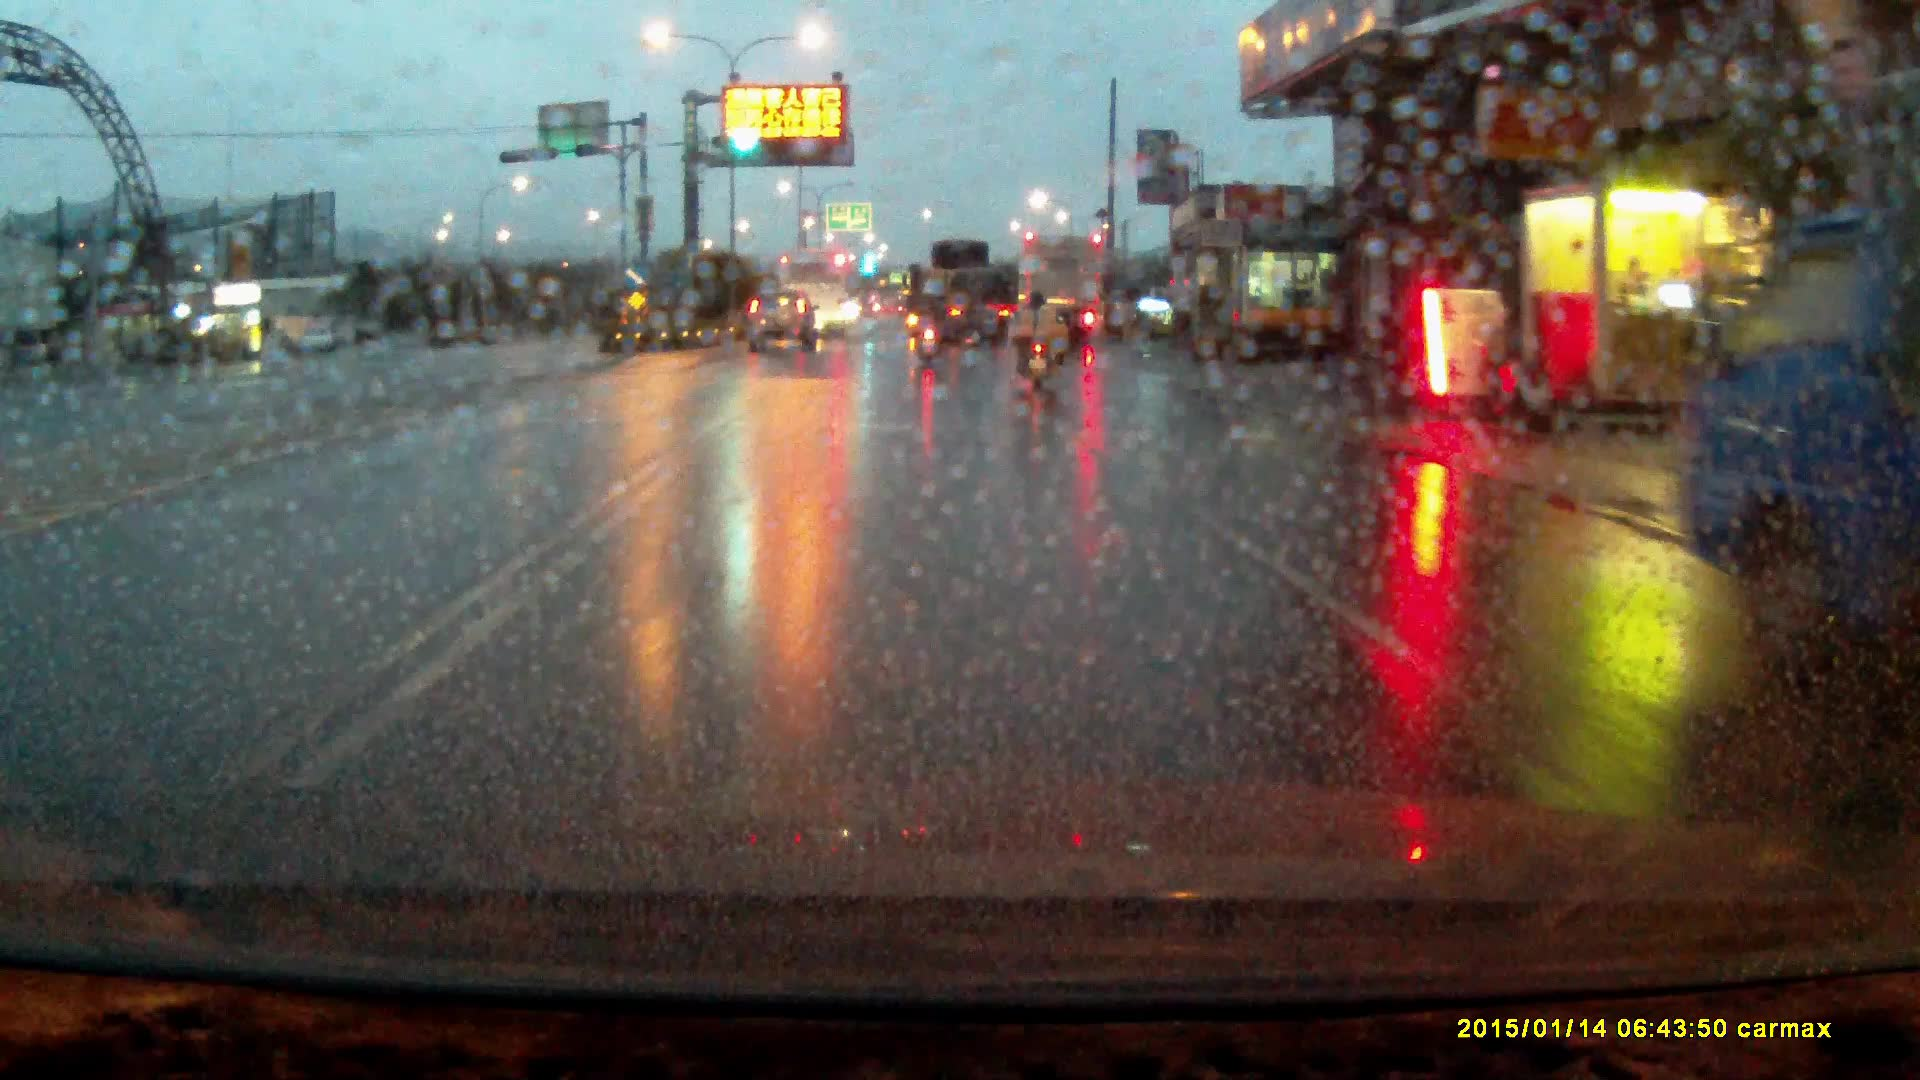rider: (1018, 287, 1058, 394), (914, 284, 943, 363)
vehicle: (1672, 199, 1920, 642), (917, 240, 1022, 347), (1021, 236, 1105, 349), (777, 249, 851, 333), (747, 281, 816, 345)
